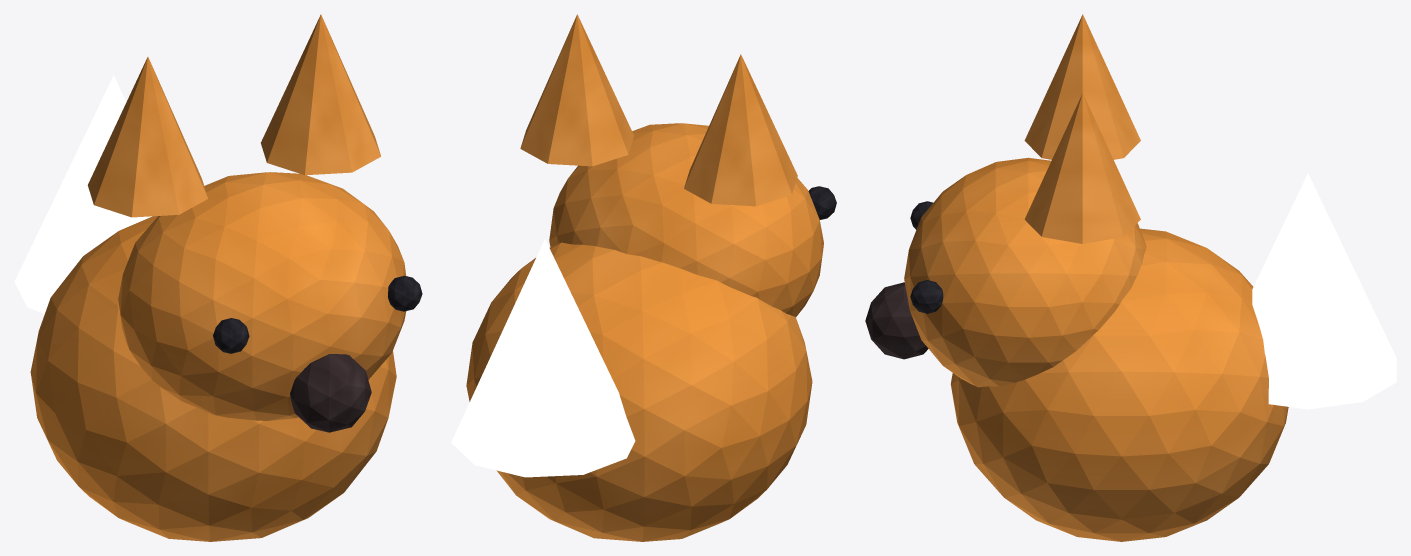
File: moed.glb
3 views of the same model, side by side, from view 1: azimuth 30°, elevation 25°; view 2: azimuth 150°, elevation 25°; view 3: azimuth 270°, elevation 25° (orthographic). The views are drawn at different scales.
Parts seen in each view (by area): view 1: world; view 2: world; view 3: world.
Boxes of the visible parts, box(x1,y1,x2,y2) form: world: box(14, 14, 422, 541); world: box(451, 14, 836, 541); world: box(865, 14, 1396, 541).
Bounding box in the file's own units: 0.4269 × 0.65 × 0.6637.
2 materials, 1 textured.
